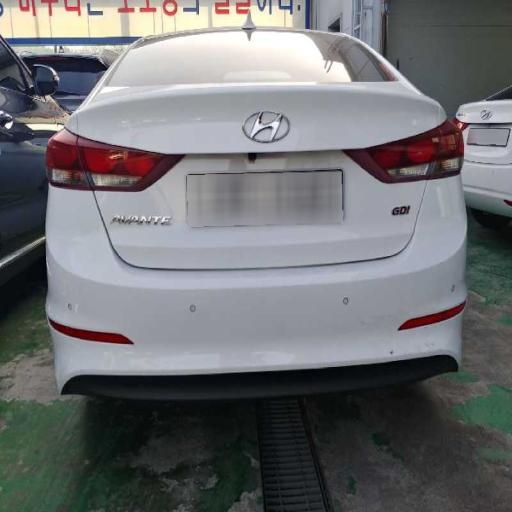scratch: (92, 83, 369, 157)
